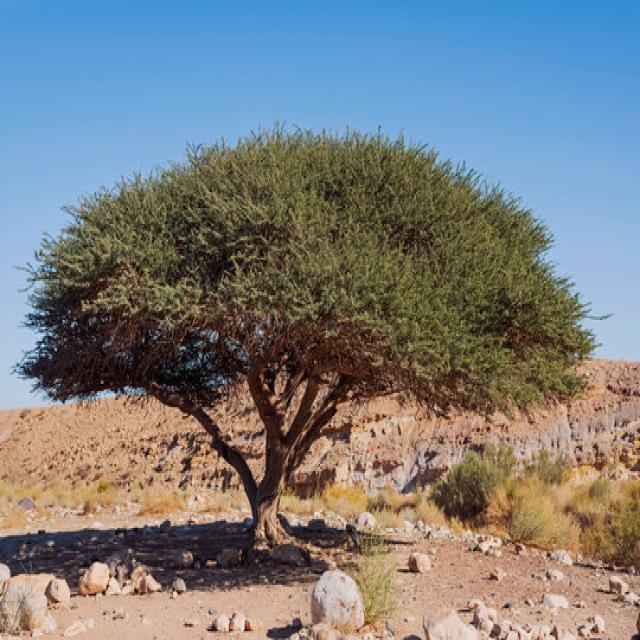Acacia: (23, 105, 583, 521)
